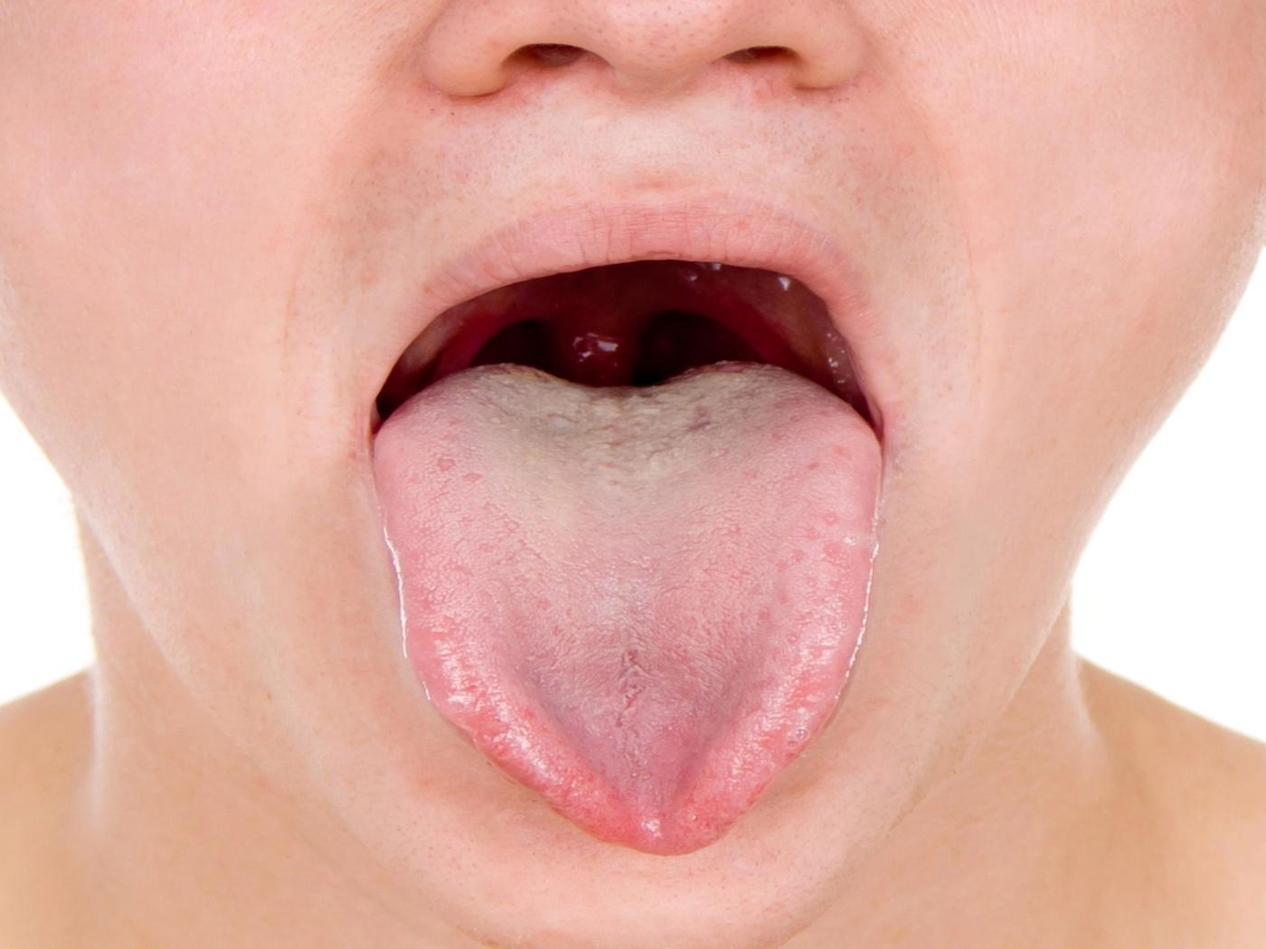baitaishe: (371, 363, 883, 856)
piweiao: (496, 603, 778, 745)
